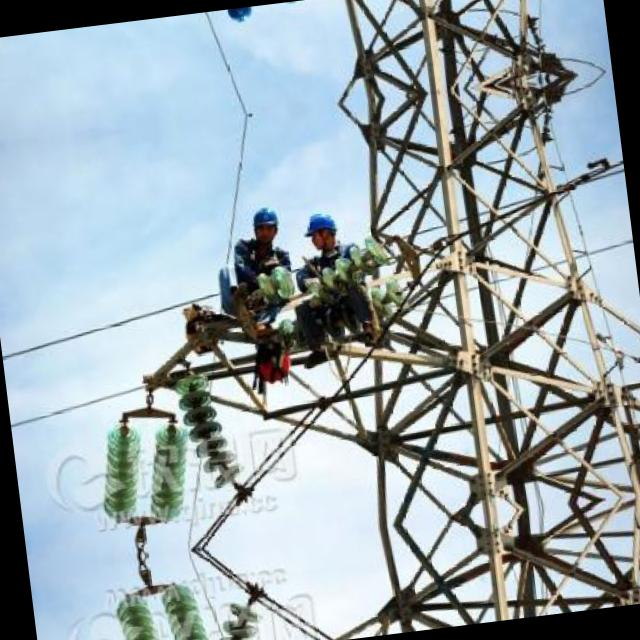helmet: (301, 204, 342, 252), (246, 199, 282, 244), (222, 5, 256, 28)
